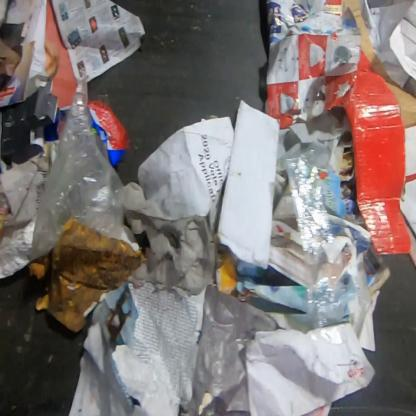cardboard: (343, 0, 415, 257), (28, 218, 147, 334)
soft_plastic: (30, 73, 126, 262), (189, 284, 280, 415), (286, 148, 348, 328)
